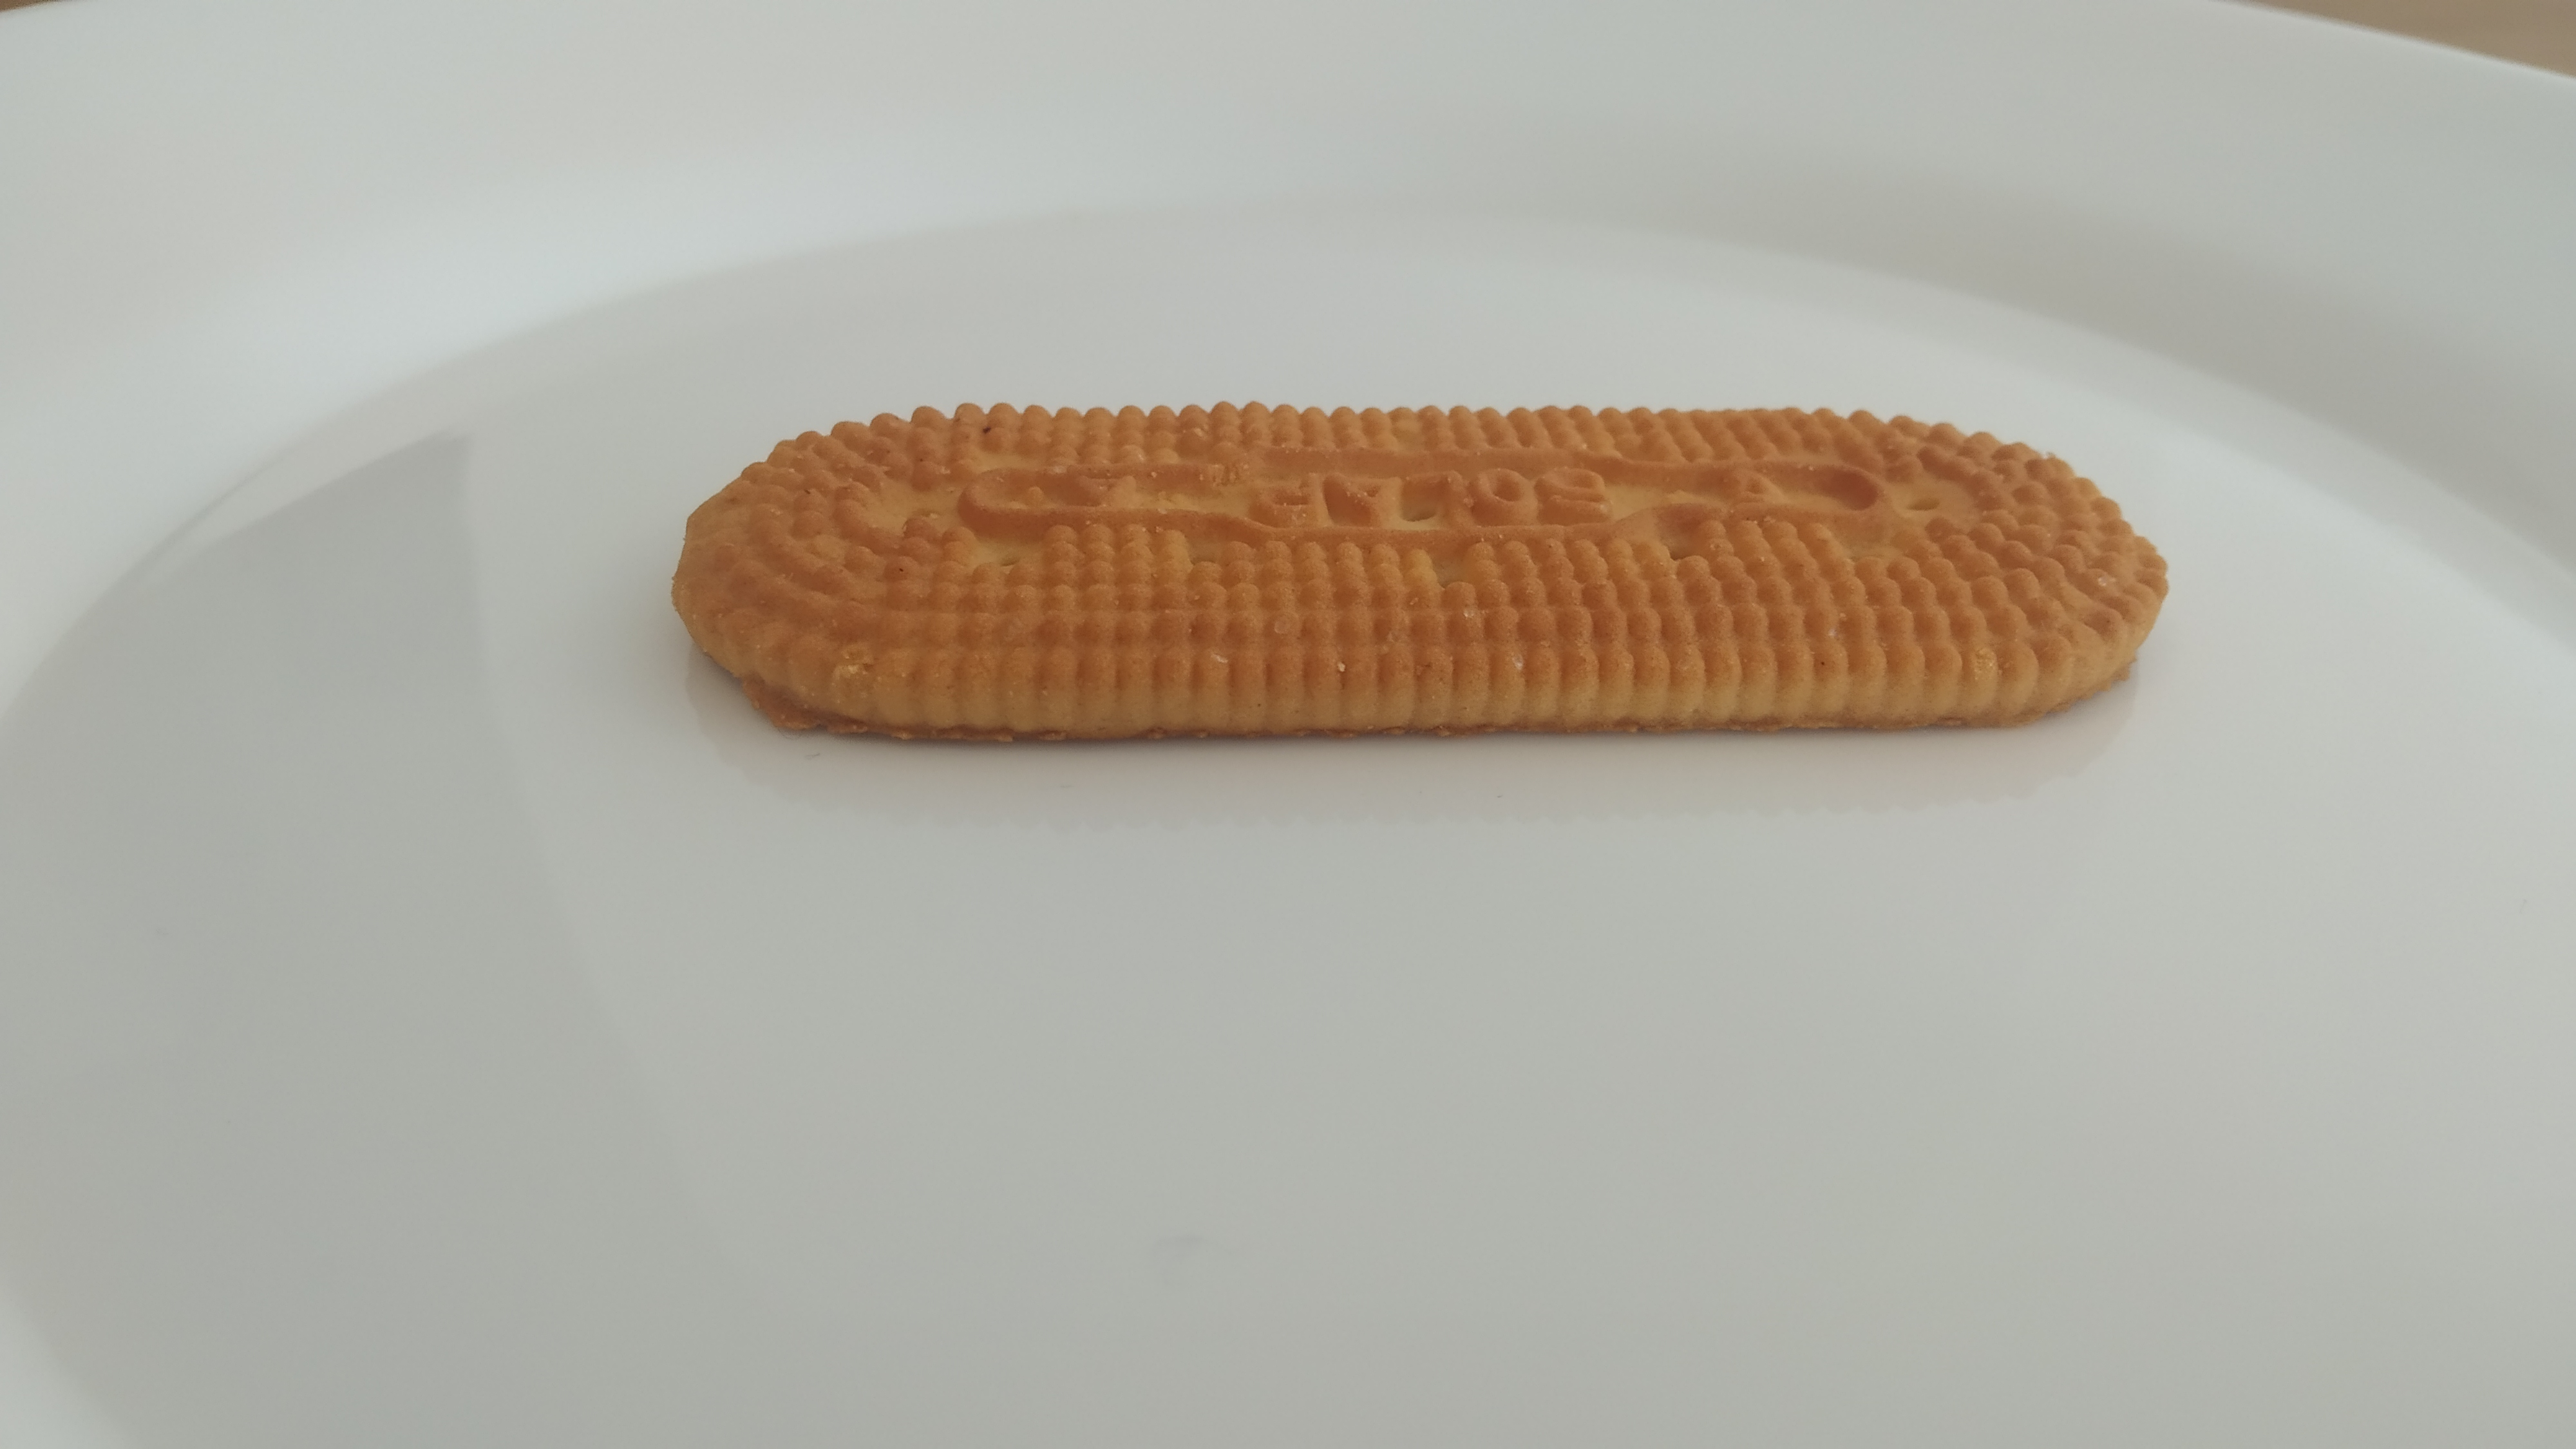solar: (671, 400, 2171, 747)
